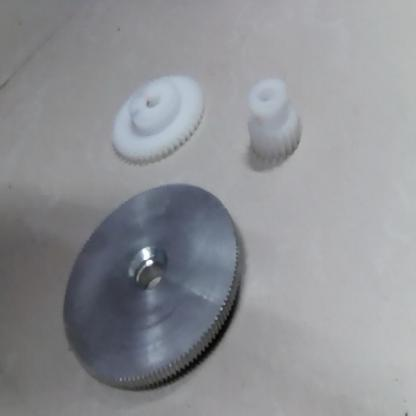FOD: (51, 184, 242, 393), (114, 74, 203, 166), (244, 77, 300, 167)
